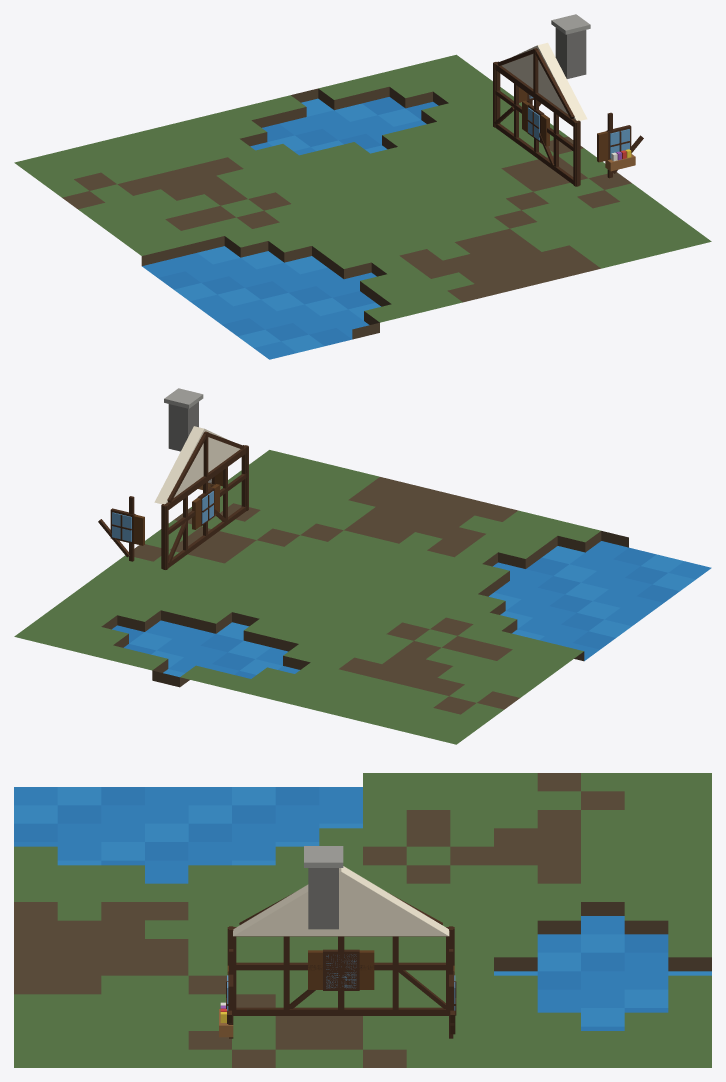
The model's file is chunk_1_16.glb.
3 renders of one model, top to bottom at view 1: azimuth 30°, elevation 25°; view 2: azimuth 150°, elevation 25°; view 3: azimuth 270°, elevation 25°, orthographic. The views are drawn at different scales.
Parts seen in each view (by area): view 1: chunk_1_16; view 2: chunk_1_16; view 3: chunk_1_16.
Boxes of the visible parts, bbox=[...] form: chunk_1_16: bbox=[14, 14, 711, 359]; chunk_1_16: bbox=[14, 388, 711, 744]; chunk_1_16: bbox=[14, 773, 711, 1067].
Bounding box in the file's own units: 16.36 × 5.29 × 16.
